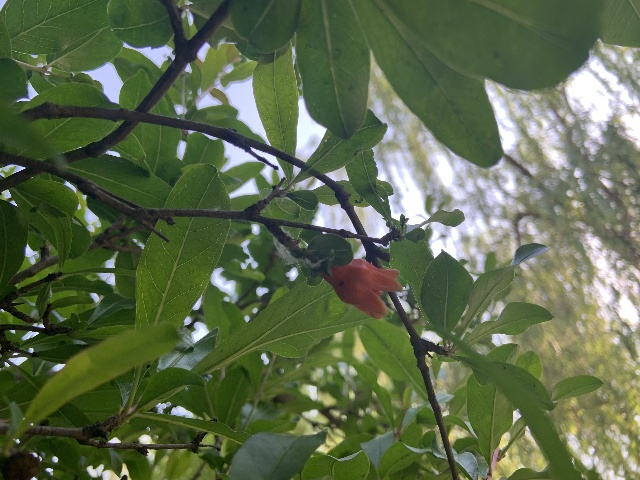flower: (322, 257, 403, 319)
